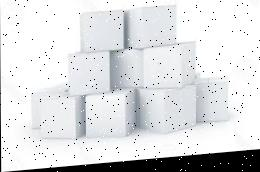cube: (139, 88, 195, 137), (143, 44, 196, 94), (85, 90, 135, 142), (128, 7, 177, 53), (79, 10, 124, 55), (67, 54, 110, 97), (42, 97, 83, 140)
